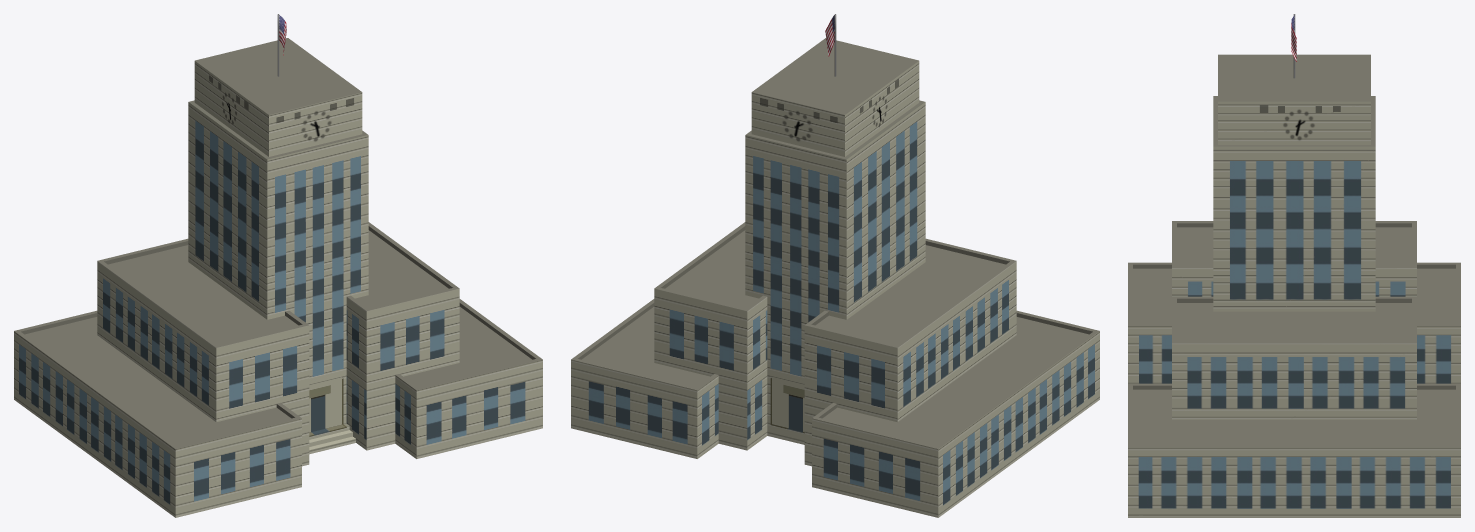
File: D Town Building 6.FBX
3 views of the same model, side by side, from view 1: azimuth 30°, elevation 25°; view 2: azimuth 150°, elevation 25°; view 3: azimuth 270°, elevation 25° (orthographic). The views are drawn at different scales.
Visible parts, largest first — view 1: Houton Cap Building 01; view 2: Houton Cap Building 01; view 3: Houton Cap Building 01.
Boxes of the visible parts, <box> form: Houton Cap Building 01: <box>14,14,542,517</box>; Houton Cap Building 01: <box>571,14,1099,517</box>; Houton Cap Building 01: <box>1128,14,1460,517</box>.
Bounding box in the file's own units: 218 × 226 × 166.
